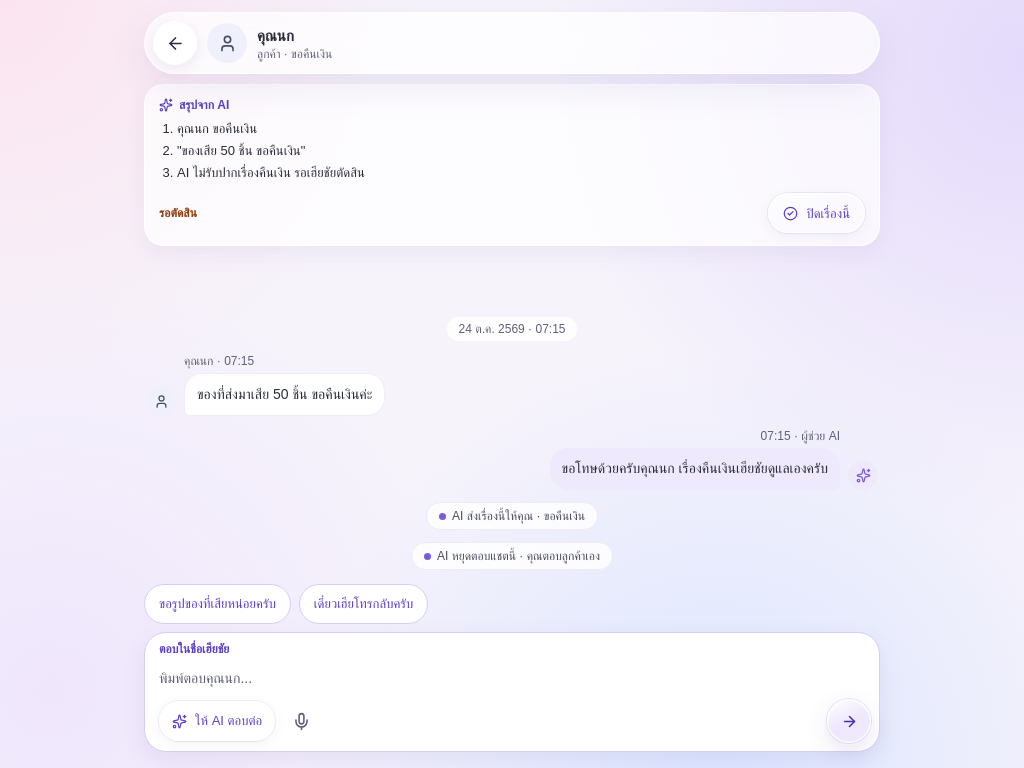
Test case: ไมค์ของเถ้าแก่ — พูดแทนพิมพ์ › ออกจากหน้าตอนกำลังอัด → ปิดไมค์ทันที (ไม่ค้างอัดเบื้องหลัง)
The width and height of the screenshot is (1024, 768).
Step 1. Click the button named "พูดแทนพิมพ์" → (301, 721), box x1=279 y1=699 x2=323 y2=743
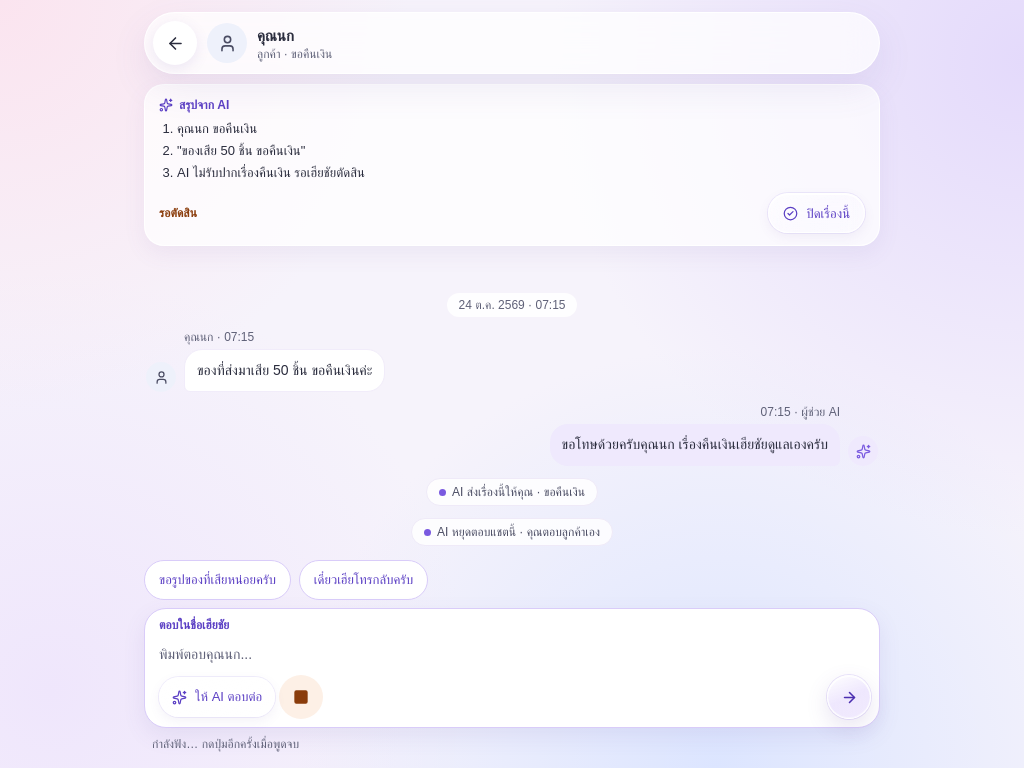
Now the button named "หยุดอัดเสียง" is shown, box x1=279 y1=675 x2=323 y2=719
